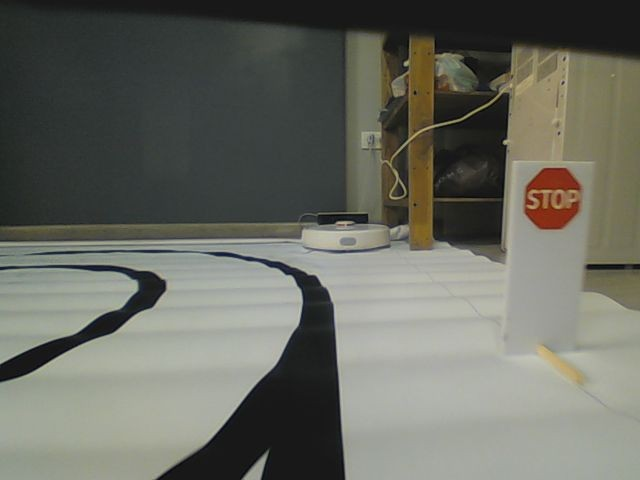Stop: (520, 166, 585, 233)
